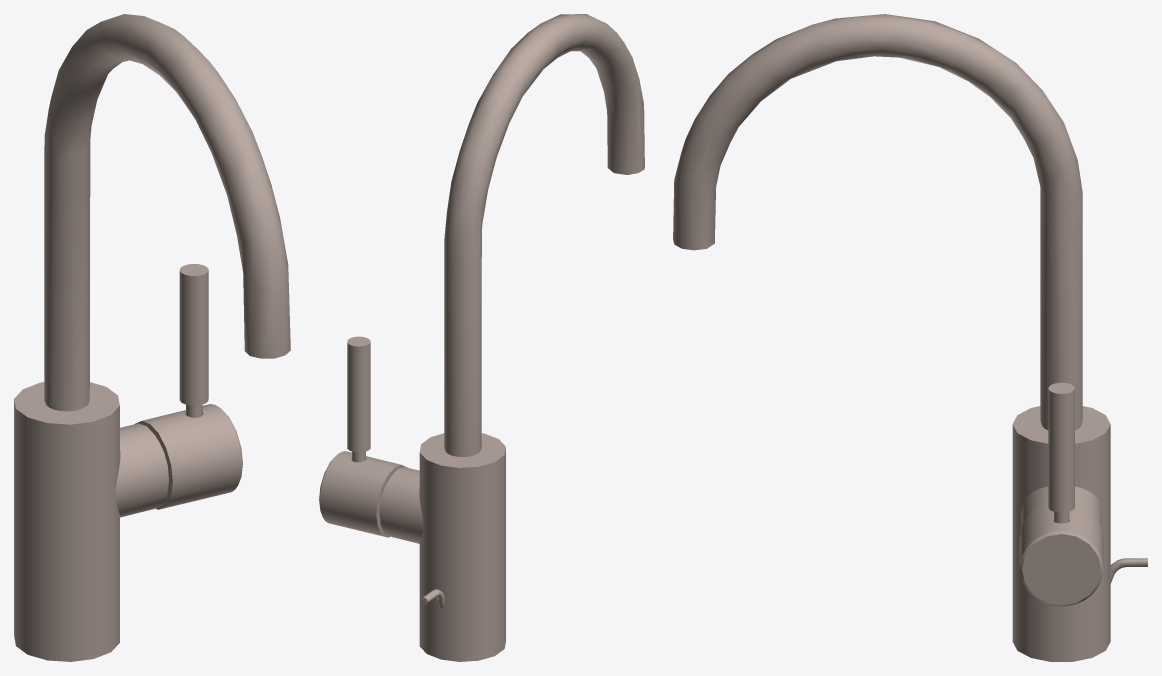
The picture shows the model from 3 angles, left to right: view 1: azimuth 30°, elevation 25°; view 2: azimuth 150°, elevation 25°; view 3: azimuth 270°, elevation 25°; orthographic projection. The views are drawn at different scales.
Parts seen in each view (by area): view 1: L_d6ffeed3_2ec5_4107_b937_0d0f4ce2a59e_I9, L_26d850e8_e314_4703_90a8_7b9e7d935aff_I2, L_b22a42c8_ce7e_4998_8fea_58eefcf1fbc7_I7, L_3efa3830_ac6c_4dc4_9e54_424aaf0a75a0_I4, L_c2ca9cbd_95a5_4fce_bc6a_e479e79db1bc_I8; view 2: L_d6ffeed3_2ec5_4107_b937_0d0f4ce2a59e_I9, L_26d850e8_e314_4703_90a8_7b9e7d935aff_I2, L_b22a42c8_ce7e_4998_8fea_58eefcf1fbc7_I7, L_3efa3830_ac6c_4dc4_9e54_424aaf0a75a0_I4, L_c2ca9cbd_95a5_4fce_bc6a_e479e79db1bc_I8; view 3: L_d6ffeed3_2ec5_4107_b937_0d0f4ce2a59e_I9, L_26d850e8_e314_4703_90a8_7b9e7d935aff_I2, L_b22a42c8_ce7e_4998_8fea_58eefcf1fbc7_I7, L_3efa3830_ac6c_4dc4_9e54_424aaf0a75a0_I4, L_c2ca9cbd_95a5_4fce_bc6a_e479e79db1bc_I8.
Boxes of the visible parts, left/top/right/bottom form: L_d6ffeed3_2ec5_4107_b937_0d0f4ce2a59e_I9: left=44, top=14, right=290, bottom=408; L_26d850e8_e314_4703_90a8_7b9e7d935aff_I2: left=14, top=382, right=119, bottom=661; L_b22a42c8_ce7e_4998_8fea_58eefcf1fbc7_I7: left=134, top=404, right=242, bottom=509; L_3efa3830_ac6c_4dc4_9e54_424aaf0a75a0_I4: left=179, top=264, right=208, bottom=405; L_c2ca9cbd_95a5_4fce_bc6a_e479e79db1bc_I8: left=115, top=423, right=168, bottom=517; L_d6ffeed3_2ec5_4107_b937_0d0f4ce2a59e_I9: left=444, top=14, right=644, bottom=455; L_26d850e8_e314_4703_90a8_7b9e7d935aff_I2: left=419, top=433, right=505, bottom=661; L_b22a42c8_ce7e_4998_8fea_58eefcf1fbc7_I7: left=319, top=451, right=407, bottom=537; L_3efa3830_ac6c_4dc4_9e54_424aaf0a75a0_I4: left=347, top=336, right=370, bottom=452; L_c2ca9cbd_95a5_4fce_bc6a_e479e79db1bc_I8: left=379, top=467, right=423, bottom=543; L_d6ffeed3_2ec5_4107_b937_0d0f4ce2a59e_I9: left=673, top=14, right=1082, bottom=428; L_26d850e8_e314_4703_90a8_7b9e7d935aff_I2: left=1012, top=406, right=1110, bottom=661; L_b22a42c8_ce7e_4998_8fea_58eefcf1fbc7_I7: left=1019, top=502, right=1103, bottom=606; L_3efa3830_ac6c_4dc4_9e54_424aaf0a75a0_I4: left=1048, top=382, right=1074, bottom=512; L_c2ca9cbd_95a5_4fce_bc6a_e479e79db1bc_I8: left=1021, top=486, right=1101, bottom=529.
Size of the model in its own units: 0.095 by 0.3099 by 0.2136.
